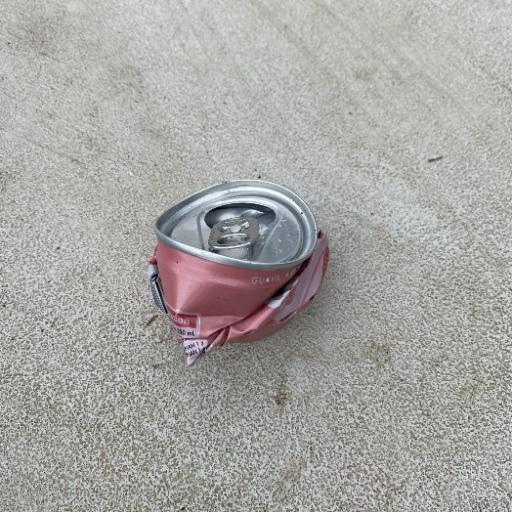Metal: (146, 177, 331, 367)
